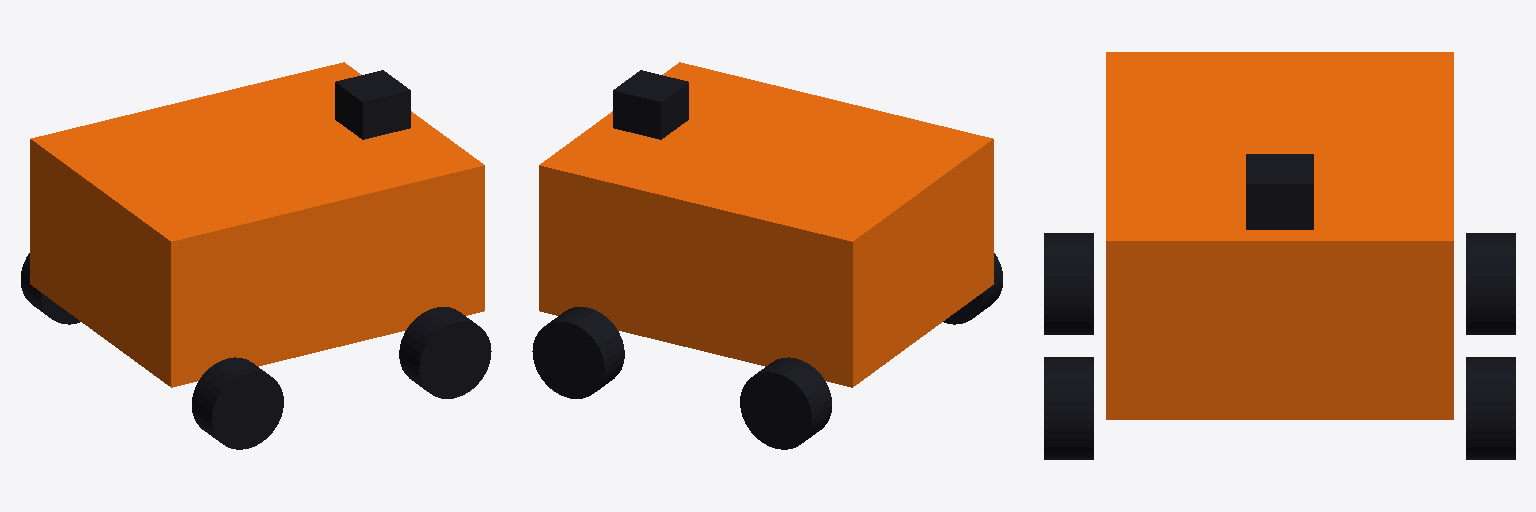
URDF robot description (rover):
<?xml version="1.0"?>
<!-- GENERATED by description/build from params.yaml. Do not edit. -->
<robot name="rover">

  <!-- on the floor, midway between the four wheel contact patches -->
  <link name="base_link"/>

  <link name="chassis_link">
    <visual>
      <origin xyz="0 0 0" rpy="0 0 0"/>
      <geometry><box size="0.36 0.28 0.16"/></geometry>
      <material name="orange"><color rgba="1 0.48 0.09 1"/></material>
    </visual>
    <collision>
      <origin xyz="0 0 0" rpy="0 0 0"/>
      <geometry><box size="0.36 0.28 0.16"/></geometry>
    </collision>
  </link>
  <joint name="chassis_joint" type="fixed">
    <parent link="base_link"/><child link="chassis_link"/>
    <origin xyz="0.002 0 0.14" rpy="0 0 0"/>
  </joint>

  <link name="wheel_lf">
    <visual>
      <origin xyz="0 0 0" rpy="1.5708 0 0"/>
      <geometry><cylinder radius="0.0415" length="0.04"/></geometry>
      <material name="black"><color rgba="0.13 0.13 0.16 1"/></material>
    </visual>
    <collision>
      <origin xyz="0 0 0" rpy="1.5708 0 0"/>
      <geometry><cylinder radius="0.0415" length="0.04"/></geometry>
    </collision>
  </link>
  <joint name="wheel_lf_joint" type="fixed">
    <parent link="base_link"/><child link="wheel_lf"/>
    <origin xyz="0.119 0.17 0.041" rpy="0 0 0"/>
  </joint>

  <link name="wheel_lr">
    <visual>
      <origin xyz="0 0 0" rpy="1.5708 0 0"/>
      <geometry><cylinder radius="0.0415" length="0.04"/></geometry>
      <material name="black"><color rgba="0.13 0.13 0.16 1"/></material>
    </visual>
    <collision>
      <origin xyz="0 0 0" rpy="1.5708 0 0"/>
      <geometry><cylinder radius="0.0415" length="0.04"/></geometry>
    </collision>
  </link>
  <joint name="wheel_lr_joint" type="fixed">
    <parent link="base_link"/><child link="wheel_lr"/>
    <origin xyz="-0.119 0.17 0.041" rpy="0 0 0"/>
  </joint>

  <link name="wheel_rf">
    <visual>
      <origin xyz="0 0 0" rpy="1.5708 0 0"/>
      <geometry><cylinder radius="0.0415" length="0.04"/></geometry>
      <material name="black"><color rgba="0.13 0.13 0.16 1"/></material>
    </visual>
    <collision>
      <origin xyz="0 0 0" rpy="1.5708 0 0"/>
      <geometry><cylinder radius="0.0415" length="0.04"/></geometry>
    </collision>
  </link>
  <joint name="wheel_rf_joint" type="fixed">
    <parent link="base_link"/><child link="wheel_rf"/>
    <origin xyz="0.119 -0.17 0.041" rpy="0 0 0"/>
  </joint>

  <link name="wheel_rr">
    <visual>
      <origin xyz="0 0 0" rpy="1.5708 0 0"/>
      <geometry><cylinder radius="0.0415" length="0.04"/></geometry>
      <material name="black"><color rgba="0.13 0.13 0.16 1"/></material>
    </visual>
    <collision>
      <origin xyz="0 0 0" rpy="1.5708 0 0"/>
      <geometry><cylinder radius="0.0415" length="0.04"/></geometry>
    </collision>
  </link>
  <joint name="wheel_rr_joint" type="fixed">
    <parent link="base_link"/><child link="wheel_rr"/>
    <origin xyz="-0.119 -0.17 0.041" rpy="0 0 0"/>
  </joint>

  <!-- the D555 case, and camera0_link = its LEFT IR imager. realsense2_camera
       publishes the optical + IMU frames below camera0_link itself. -->
  <link name="camera_case">
    <visual>
      <origin xyz="0 0 0" rpy="0 0 0"/>
      <geometry><box size="0.048 0.167 0.042"/></geometry>
      <material name="grey"><color rgba="0.6 0.6 0.65 1"/></material>
    </visual>
    <collision>
      <origin xyz="0 0 0" rpy="0 0 0"/>
      <geometry><box size="0.048 0.167 0.042"/></geometry>
    </collision>
  </link>
  <joint name="camera_case_joint" type="fixed">
    <parent link="base_link"/><child link="camera_case"/>
    <origin xyz="0.149 0 0.175" rpy="0 0 0"/>
  </joint>
  <link name="camera0_link"/>
  <joint name="camera_joint" type="fixed">
    <parent link="base_link"/><child link="camera0_link"/>
    <origin xyz="0.1623 0.0419 0.175" rpy="-0.0025 0.0528 0.0168"/>
  </joint>

  <!-- the RPLidar C1 case, square to the body, and `laser`, the frame /scan is
       stamped in: at the laser plane, yawed to where the zero beam points. -->
  <link name="lidar_case">
    <visual>
      <origin xyz="0 0 0" rpy="0 0 0"/>
      <geometry><box size="0.0556 0.0556 0.0413"/></geometry>
      <material name="black"><color rgba="0.13 0.13 0.16 1"/></material>
    </visual>
    <collision>
      <origin xyz="0 0 0" rpy="0 0 0"/>
      <geometry><box size="0.0556 0.0556 0.0413"/></geometry>
    </collision>
  </link>
  <joint name="lidar_case_joint" type="fixed">
    <parent link="base_link"/><child link="lidar_case"/>
    <origin xyz="0.1342 0 0.2407" rpy="0 0 0"/>
  </joint>
  <link name="laser"/>
  <joint name="laser_joint" type="fixed">
    <parent link="base_link"/><child link="laser"/>
    <origin xyz="0.1342 0 0.2498" rpy="0 0 1.5463"/>
  </joint>

  <!-- the two front sonars (HC-SR04): x along the beam; /sonar/left and
       /sonar/right (sensor_msgs/Range) are stamped in these frames. -->
  <link name="sonar_left">
    <visual>
      <origin xyz="-0.01 0 0" rpy="0 0 0"/>
      <geometry><box size="0.02 0.045 0.02"/></geometry>
      <material name="grey"><color rgba="0.6 0.6 0.65 1"/></material>
    </visual>
    <collision>
      <origin xyz="-0.01 0 0" rpy="0 0 0"/>
      <geometry><box size="0.02 0.045 0.02"/></geometry>
    </collision>
  </link>
  <joint name="sonar_left_joint" type="fixed">
    <parent link="base_link"/><child link="sonar_left"/>
    <origin xyz="0.182 0.09 0.095" rpy="0 0 0"/>
  </joint>
  <link name="sonar_right">
    <visual>
      <origin xyz="-0.01 0 0" rpy="0 0 0"/>
      <geometry><box size="0.02 0.045 0.02"/></geometry>
      <material name="grey"><color rgba="0.6 0.6 0.65 1"/></material>
    </visual>
    <collision>
      <origin xyz="-0.01 0 0" rpy="0 0 0"/>
      <geometry><box size="0.02 0.045 0.02"/></geometry>
    </collision>
  </link>
  <joint name="sonar_right_joint" type="fixed">
    <parent link="base_link"/><child link="sonar_right"/>
    <origin xyz="0.182 -0.09 0.095" rpy="0 0 0"/>
  </joint>

</robot>

--- Facts derived from the render (not from the file) ---
3 views of the same robot in one strip: view 1: azimuth 30°, elevation 25°; view 2: azimuth 150°, elevation 25°; view 3: azimuth 270°, elevation 25° (orthographic).
Model rover with 12 links and 11 joints (11 fixed), rooted at base_link, posed all joints at 0.
Visible links, largest first — view 1: chassis_link, wheel_rr, wheel_rf, lidar_case, wheel_lr; view 2: chassis_link, wheel_lr, wheel_lf, lidar_case, wheel_rr; view 3: chassis_link, lidar_case, wheel_lf, wheel_rf, wheel_lr, wheel_rr.
Link boxes in pixels (box(x1,y1,x2,y2)): chassis_link: box(30, 62, 484, 387); wheel_rr: box(192, 357, 283, 449); wheel_rf: box(399, 307, 491, 398); lidar_case: box(335, 70, 410, 139); wheel_lr: box(21, 253, 80, 324); chassis_link: box(539, 62, 993, 387); wheel_lr: box(740, 357, 831, 449); wheel_lf: box(532, 307, 624, 398); lidar_case: box(613, 70, 688, 139); wheel_rr: box(943, 253, 1002, 324); chassis_link: box(1106, 52, 1453, 419); lidar_case: box(1246, 154, 1313, 229); wheel_lf: box(1466, 357, 1515, 459); wheel_rf: box(1044, 357, 1093, 459); wheel_lr: box(1466, 233, 1515, 334); wheel_rr: box(1044, 233, 1093, 334).
Size in the robot's own frame: 0.36 by 0.38 by 0.2619 metres.
Geometry: primitives only (box / cylinder / sphere), no mesh files.
